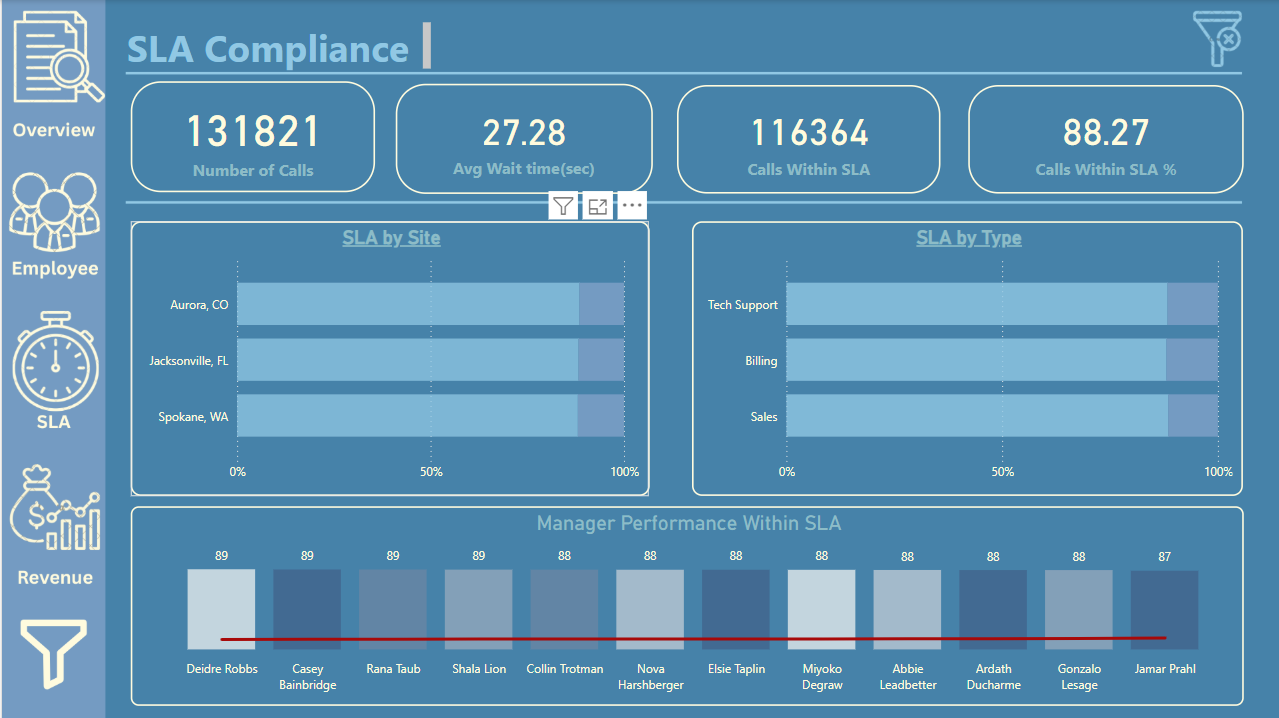

The page's visual inventory and layout, read from the dashboard file:
{"tool":"powerbi","page":{"name":"SLA","canvas":[1280,720],"ordinal":2},"visuals":[{"type":"pageNavigator","box":[0,8.5,103,130.8],"z":0},{"type":"pageNavigator","box":[0,465.4,103.7,123.5],"z":1000},{"type":"pageNavigator","box":[0,164,103.5,116.3],"z":2000},{"type":"card","fields":{"Values":["Created_measures.Measure"]},"box":[128.4,81.2,244.7,111.4],"z":3000},{"type":"card","fields":{"Values":["Created_measures.WithinSLA%"]},"box":[967.8,84.8,276.2,109],"z":4000},{"type":"card","fields":{"Values":["Created_measures.AvgWaitTime"]},"box":[394.9,83.6,258,110.2],"z":5000},{"type":"card","fields":{"Values":["Created_measures.WithinSlaCalls"]},"box":[675.9,84.8,264,109],"z":6000},{"type":"hundredPercentStackedBarChart","title":"SLA by Site","fields":{"Category":["Lookup+Tables.Site"],"Y":["Created_measures.WithinSLA%","Created_measures.OutsideSLA%"]},"box":[128.4,221.7,519.6,274.9],"z":7000},{"type":"hundredPercentStackedBarChart","title":"SLA by Type","fields":{"Y":["Created_measures.WithinSlaCalls","Created_measures.OutsideSlaCalls"],"Category":["Cleaned_callData.Call Type"]},"box":[691.6,221.7,552.3,274.9],"z":8000},{"type":"lineStackedColumnComboChart","title":"Manager Performance Within SLA","fields":{"Category":["Lookup+Tables.ManagerName"],"Y":["Created_measures.WithinSLA%"],"Y2":["Created_measures.OutsideSLA%"]},"box":[128.4,507.5,1115.5,199.8],"z":9000},{"type":"textbox","box":[106.6,17,328.2,58.1],"z":10000},{"type":"pageNavigator","box":[11.1,611.1,82.4,85.7],"z":11000},{"type":"actionButton","box":[1184,6,65.1,65.1],"z":17000}]}

Visuals, with their boxes in screenshot pixels (x1, y1, x2, y2), scaled from the page's 1280x720 canvas onto the 1279x718 screenshot:
pageNavigator: (left=0, top=8, right=103, bottom=139)
pageNavigator: (left=0, top=464, right=104, bottom=587)
pageNavigator: (left=0, top=164, right=103, bottom=280)
card - Created_measures.Measure: (left=128, top=81, right=373, bottom=192)
card - Created_measures.WithinSLA%: (left=967, top=85, right=1243, bottom=193)
card - Created_measures.AvgWaitTime: (left=395, top=83, right=652, bottom=193)
card - Created_measures.WithinSlaCalls: (left=675, top=85, right=939, bottom=193)
"SLA by Site" hundredPercentStackedBarChart: (left=128, top=221, right=647, bottom=495)
"SLA by Type" hundredPercentStackedBarChart: (left=691, top=221, right=1243, bottom=495)
"Manager Performance Within SLA" lineStackedColumnComboChart: (left=128, top=506, right=1243, bottom=705)
textbox: (left=107, top=17, right=434, bottom=75)
pageNavigator: (left=11, top=609, right=93, bottom=695)
actionButton: (left=1183, top=6, right=1248, bottom=71)
